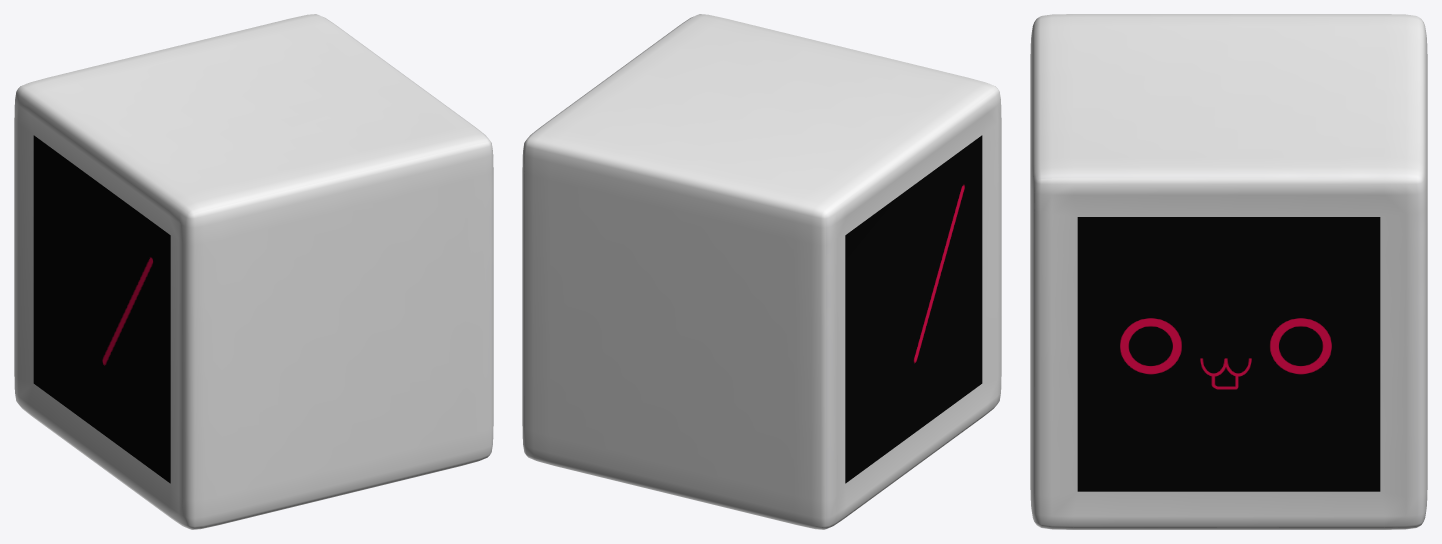
The model's file is CatBox.obj.
3 renders of one model, left to right at view 1: azimuth 30°, elevation 25°; view 2: azimuth 150°, elevation 25°; view 3: azimuth 270°, elevation 25°, orthographic. The views are drawn at different scales.
Parts seen in each view (by area): view 1: pCube1; view 2: pCube1; view 3: pCube1.
Boxes of the visible parts, x1,y1,x2,y2 form: pCube1: (14,14,493,529); pCube1: (522,14,1001,529); pCube1: (1030,14,1427,529).
Bounding box in the file's own units: 4.99 × 4.99 × 5.
4 materials, 4 textured.
